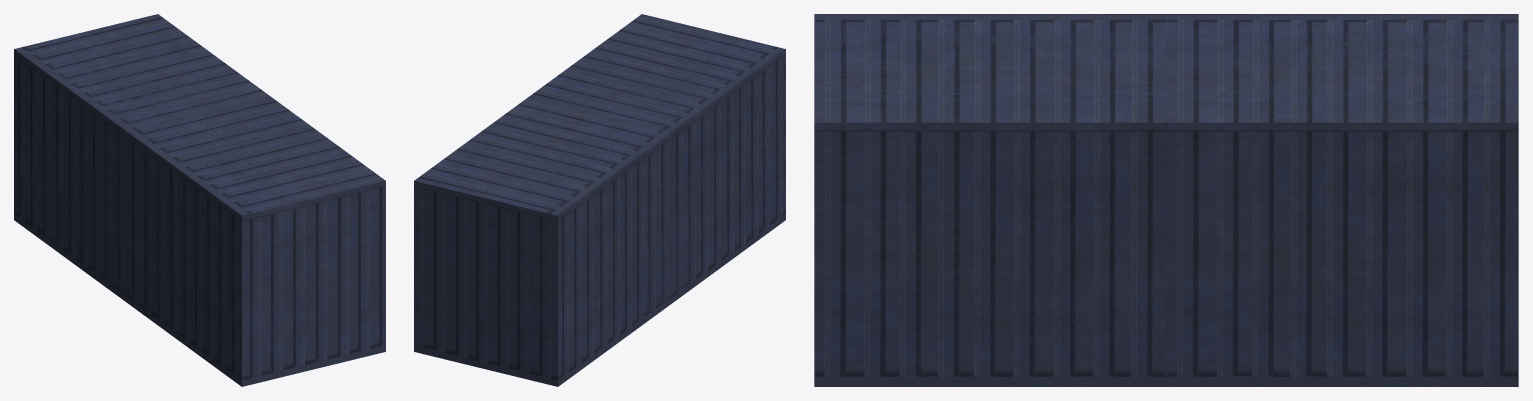
File: container.obj
3 views of the same model, side by side, from view 1: azimuth 30°, elevation 25°; view 2: azimuth 150°, elevation 25°; view 3: azimuth 270°, elevation 25° (orthographic). The views are drawn at different scales.
Visible parts, largest first — view 1: group_0_ID3.007; view 2: group_0_ID3.007; view 3: group_0_ID3.007.
Part boxes in pixels (bbox=[...]): group_0_ID3.007: bbox=[14, 14, 385, 386]; group_0_ID3.007: bbox=[414, 14, 785, 386]; group_0_ID3.007: bbox=[814, 14, 1518, 386].
Bounding box in the file's own units: 11 × 12.49 × 30.16.
